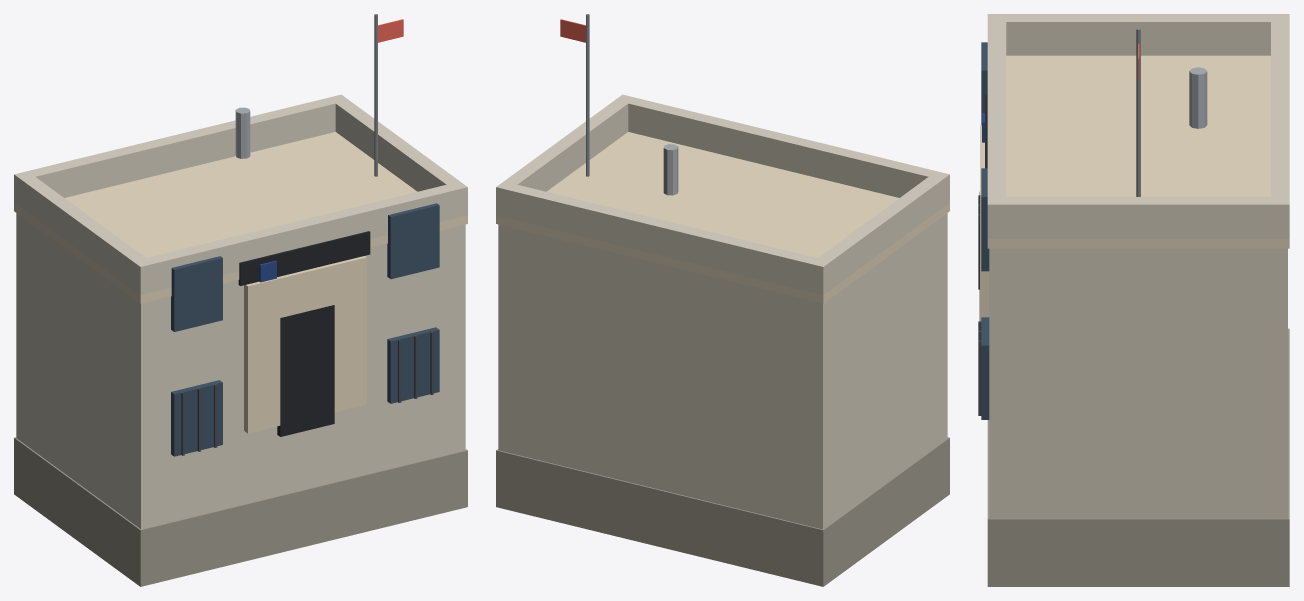
The model's file is building.security-station.glb.
3 renders of one model, left to right at view 1: azimuth 30°, elevation 25°; view 2: azimuth 150°, elevation 25°; view 3: azimuth 270°, elevation 25°, orthographic. The views are drawn at different scales.
Parts seen in each view (by area): view 1: building.security-station; view 2: building.security-station; view 3: building.security-station.
Boxes of the visible parts, x1,y1,x2,y2 form: building.security-station: (14, 14, 467, 586); building.security-station: (496, 14, 949, 586); building.security-station: (978, 14, 1289, 586).
Size of the model in its own units: 6.05 by 8 by 4.18.
